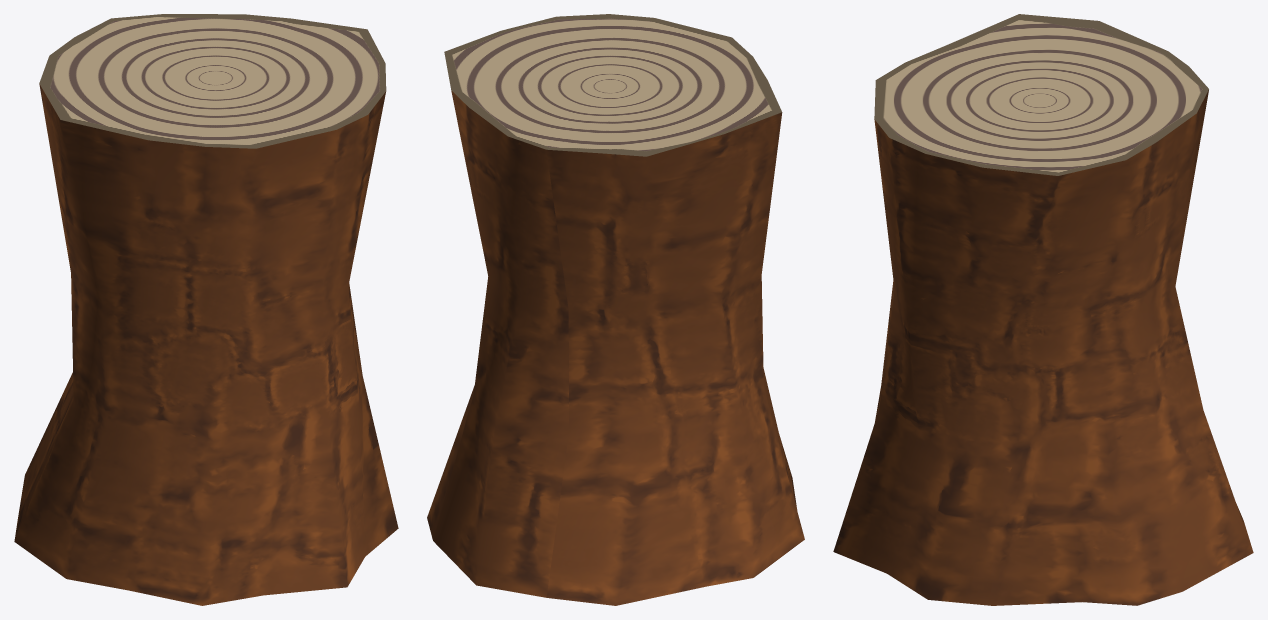
File: tree_stump.glb
3 views of the same model, side by side, from view 1: azimuth 30°, elevation 25°; view 2: azimuth 150°, elevation 25°; view 3: azimuth 270°, elevation 25° (orthographic). The views are drawn at different scales.
Parts seen in each view (by area): view 1: Stump; view 2: Stump; view 3: Stump.
Part boxes in pixels (x1,y1,x2,y2): Stump: [14, 14, 398, 605]; Stump: [427, 14, 804, 605]; Stump: [833, 14, 1253, 605].
Size of what is drawn, in the model's own units: 6.23 by 7.99 by 6.8.
Materials: 2 (2 with a texture image).
